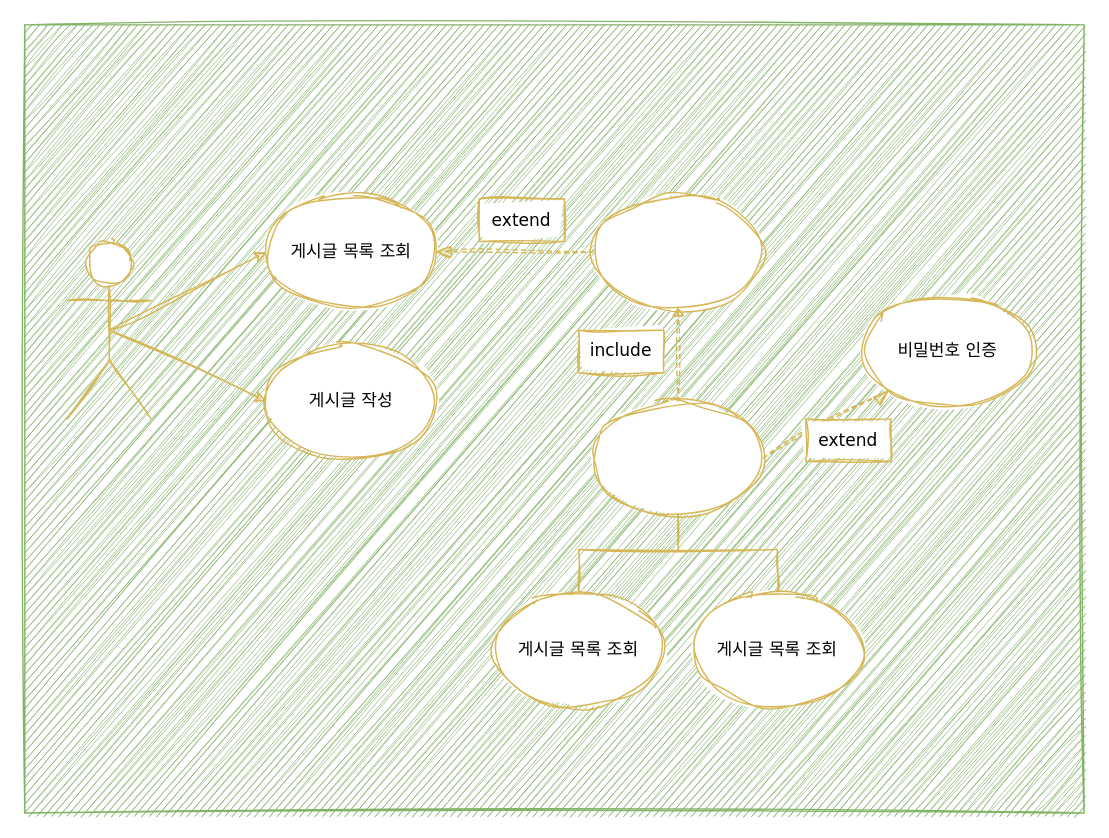
Image size: 1109x838. Some labels were removed from this diagram. The shapes that lost their labels are listed below. From the top down, each one's centre as x and y in pixels, then its label:
At pixel 677 251: "게시글 조회".
At pixel 108 329: "User".
At pixel 677 457: "게시글 관리".
